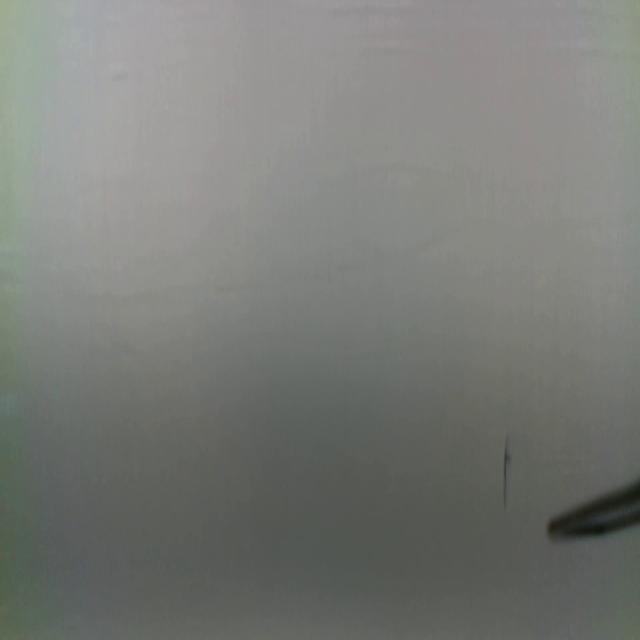hole: (500, 432, 511, 505)
